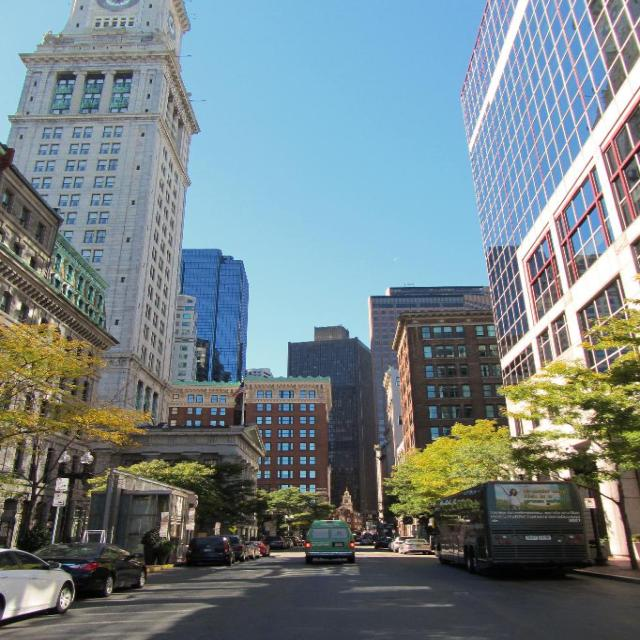Buses: (437, 480, 592, 576)
Passenger Car: (1, 544, 76, 632), (84, 539, 144, 600), (185, 537, 235, 569), (399, 540, 431, 554)
Pickup Trucks: (306, 520, 357, 561)
